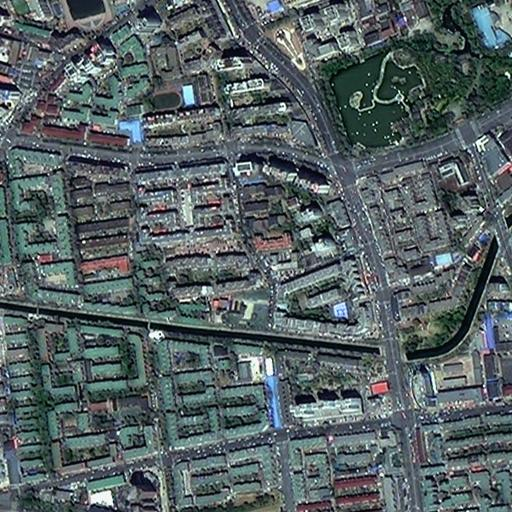school: (145, 41, 197, 113)
